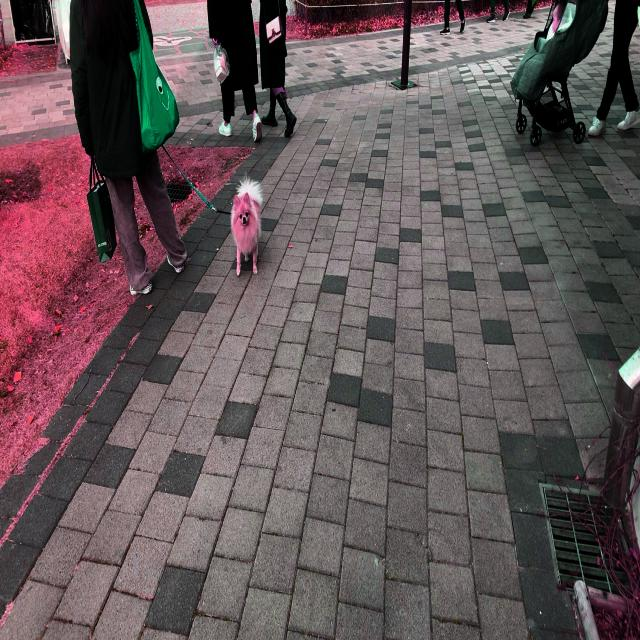Leashed_Dog: (140, 108, 264, 278)
